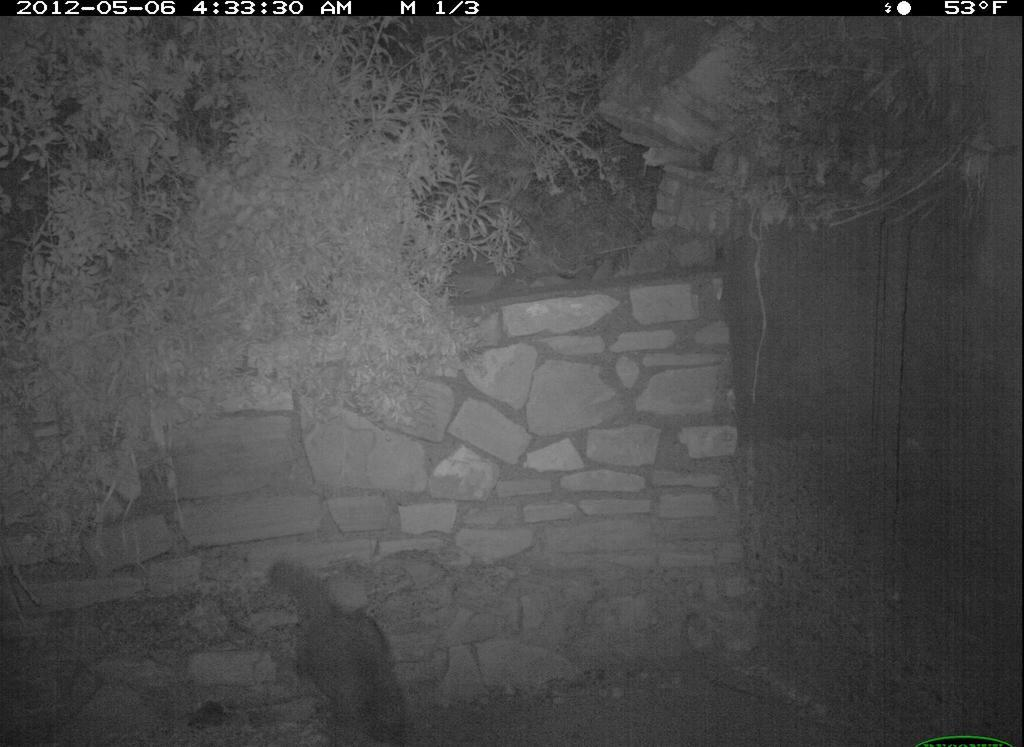raccoon: (257, 551, 424, 747)
